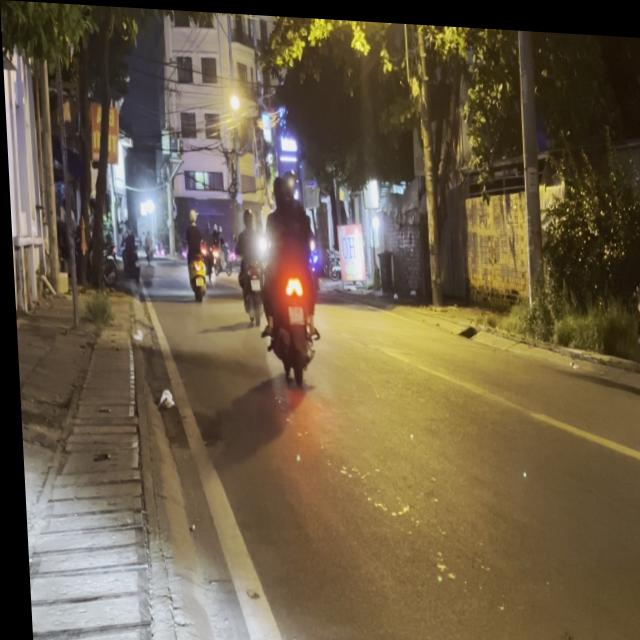helmet: (276, 165, 300, 202)
licenseplate: (251, 158, 322, 382)
nohelmet: (286, 301, 301, 319)
